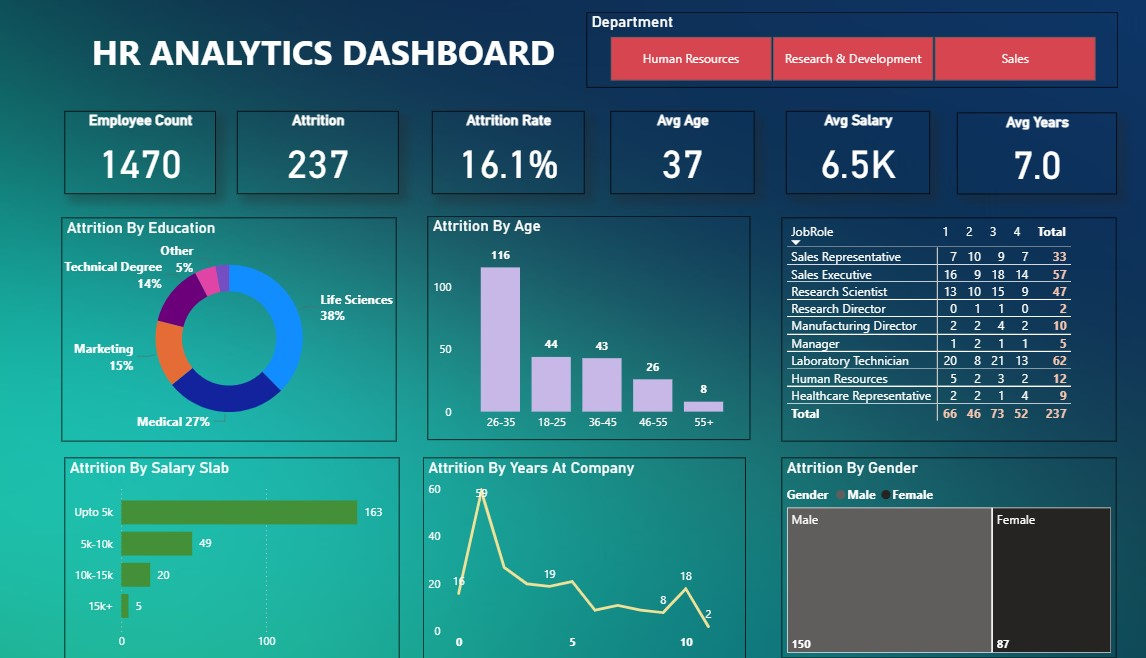

The page's visual inventory and layout, read from the dashboard file:
{"tool":"powerbi","page":{"name":"Page 1","canvas":[1280,720],"ordinal":0},"visuals":[{"type":"card","title":"Employee Count","fields":{"Values":["CountNonNull(HR_Analytics.EmpID)"]},"box":[24.3,121.4,165.2,90.7],"z":0},{"type":"card","title":"Attrition","fields":{"Values":["Sum(HR_Analytics.AttritionCount)"]},"box":[213.7,121.4,176.5,90.7],"z":1},{"type":"card","title":"Avg Salary","fields":{"Values":["Avg(HR_Analytics.MonthlyIncome)"]},"box":[812.9,121.4,157.1,90.7],"z":2},{"type":"card","title":"Attrition Rate","fields":{"Values":["HR_Analytics.AttritionRate"]},"box":[425.9,121.4,166.8,90.7],"z":3},{"type":"card","title":"Avg Years","fields":{"Values":["Avg(HR_Analytics.YearsAtCompany)"]},"box":[999.1,123.1,174.9,89.1],"z":4},{"type":"card","title":"Avg Age","fields":{"Values":["Avg(HR_Analytics.Age)"]},"box":[621.8,121.4,157.1,90.7],"z":5},{"type":"donutChart","title":"Attrition By Education","fields":{"Category":["HR_Analytics.EducationField"],"Y":["Sum(HR_Analytics.AttritionCount)"]},"box":[21.9,238,366.3,244.7],"z":6},{"type":"columnChart","title":"Attrition By Age","fields":{"Category":["HR_Analytics.AgeGroup"],"Y":["Sum(HR_Analytics.AttritionCount)"]},"box":[422,236.3,352.8,244.7],"z":7},{"type":"pivotTable","fields":{"Rows":["HR_Analytics.JobRole"],"Columns":["HR_Analytics.JobSatisfaction"],"Values":["Sum(HR_Analytics.AttritionCount)"]},"box":[808.5,238,366.3,244.7],"z":8},{"type":"barChart","title":"Attrition By Salary Slab","fields":{"Category":["HR_Analytics.SalarySlab"],"Y":["Sum(HR_Analytics.AttritionCount)"]},"box":[24,500,366,220],"z":9},{"type":"areaChart","title":"Attrition By Years At Company","fields":{"Category":["HR_Analytics.YearsAtCompany"],"Y":["Sum(HR_Analytics.AttritionCount)"]},"box":[416.9,499.6,352.8,221.1],"z":10},{"type":"treemap","title":"Attrition By Gender","fields":{"Group":["HR_Analytics.Gender"],"Values":["Sum(HR_Analytics.AttritionCount)"]},"box":[808.5,499.6,366.3,219.4],"z":11},{"type":"slicer","title":"Department","fields":{"Values":["HR_Analytics.Department"]},"box":[594.1,13.5,580.6,82.7],"z":12},{"type":"textbox","box":[21.9,27,572.2,69.2],"z":13}]}

Visuals, with their boxes in screenshot pixels (x1, y1, x2, y2), scaled from the page's 1280x720 canvas onto the 1146x658 screenshot:
"Employee Count" card: left=22, top=111, right=170, bottom=194
"Attrition" card: left=191, top=111, right=349, bottom=194
"Avg Salary" card: left=728, top=111, right=868, bottom=194
"Attrition Rate" card: left=381, top=111, right=531, bottom=194
"Avg Years" card: left=895, top=112, right=1051, bottom=194
"Avg Age" card: left=557, top=111, right=697, bottom=194
"Attrition By Education" donutChart: left=20, top=218, right=348, bottom=441
"Attrition By Age" columnChart: left=378, top=216, right=694, bottom=440
pivotTable - HR_Analytics.JobRole x HR_Analytics.JobSatisfaction: left=724, top=218, right=1052, bottom=441
"Attrition By Salary Slab" barChart: left=21, top=457, right=349, bottom=657
"Attrition By Years At Company" areaChart: left=373, top=457, right=689, bottom=657
"Attrition By Gender" treemap: left=724, top=457, right=1052, bottom=657
"Department" slicer: left=532, top=12, right=1052, bottom=88
textbox: left=20, top=25, right=532, bottom=88
